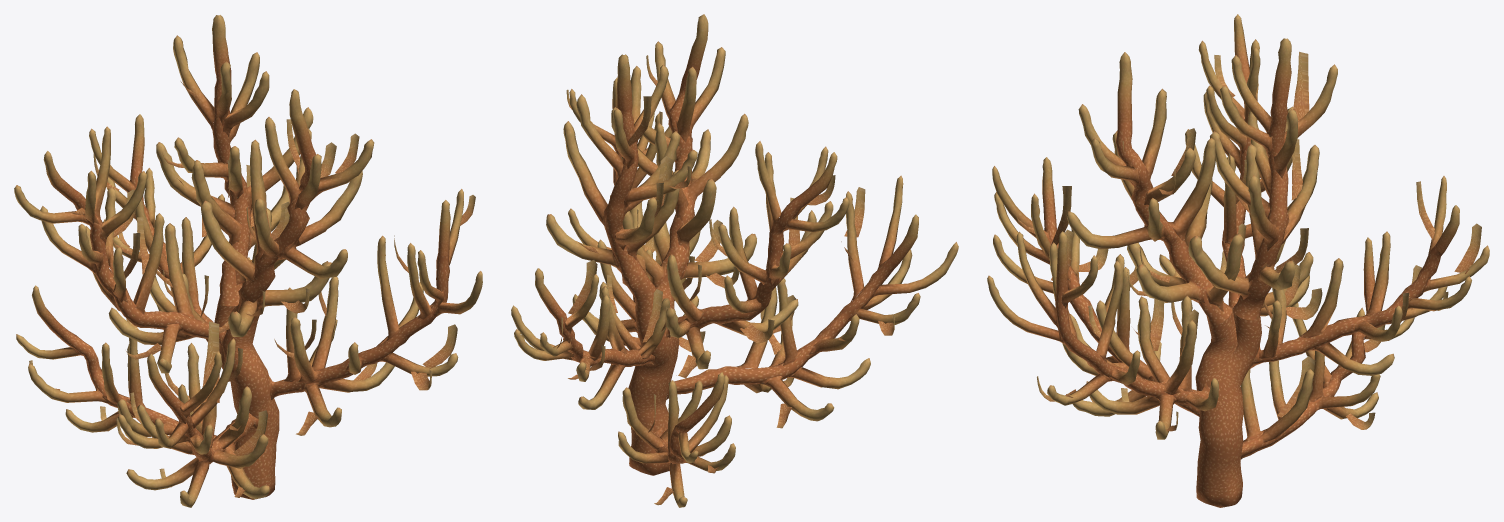
File: staghorn-size-2.glb
The picture shows the model from 3 angles, left to right: view 1: azimuth 30°, elevation 25°; view 2: azimuth 150°, elevation 25°; view 3: azimuth 270°, elevation 25°; orthographic projection. The views are drawn at different scales.
Parts seen in each view (by area): view 1: default; view 2: default; view 3: default.
Part boxes in pixels (left/top/right/bottom): default: left=14, top=15, right=482, bottom=507; default: left=511, top=14, right=958, bottom=507; default: left=987, top=14, right=1489, bottom=507.
Bounding box in the file's own units: 15.94 × 18.73 × 18.2.
1 material, 1 textured.
